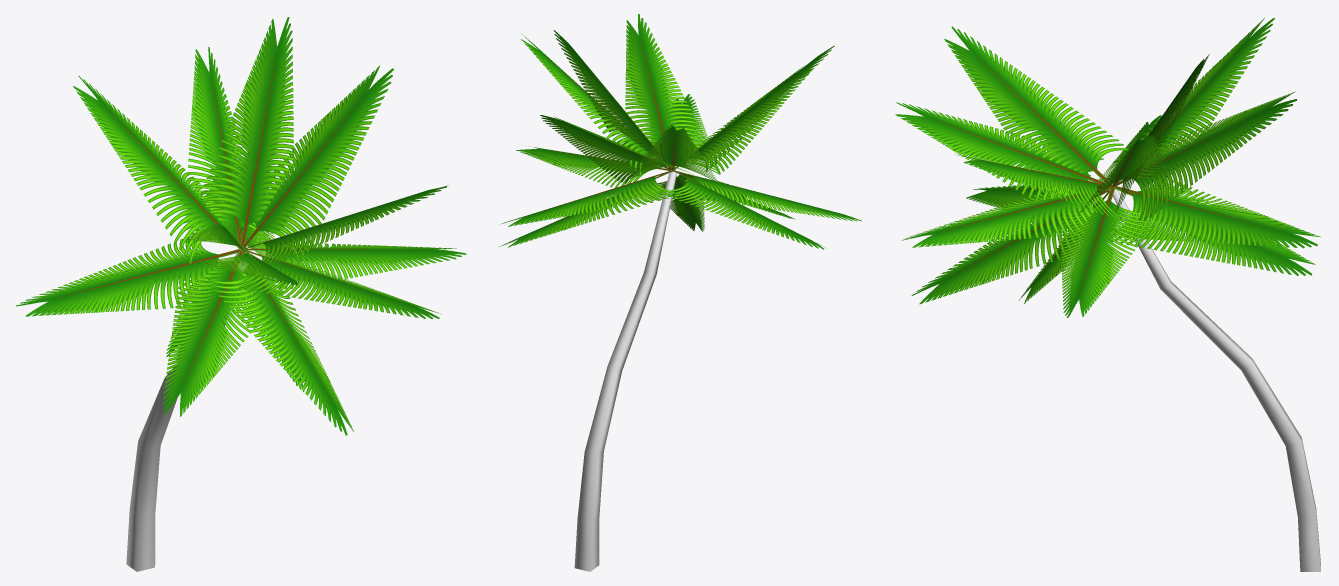
The model's file is Palm2_LOD2.fbx.
3 renders of one model, left to right at view 1: azimuth 30°, elevation 25°; view 2: azimuth 150°, elevation 25°; view 3: azimuth 270°, elevation 25°, orthographic. The views are drawn at different scales.
Visible parts, largest first — view 1: Palm2_LOD2; view 2: Palm2_LOD2; view 3: Palm2_LOD2.
Boxes of the visible parts, x1,y1,x2,y2 form: Palm2_LOD2: (15,17,466,571); Palm2_LOD2: (499,14,861,571); Palm2_LOD2: (895,18,1320,571).
Size of the model in its own units: 893 by 1194 by 844.
